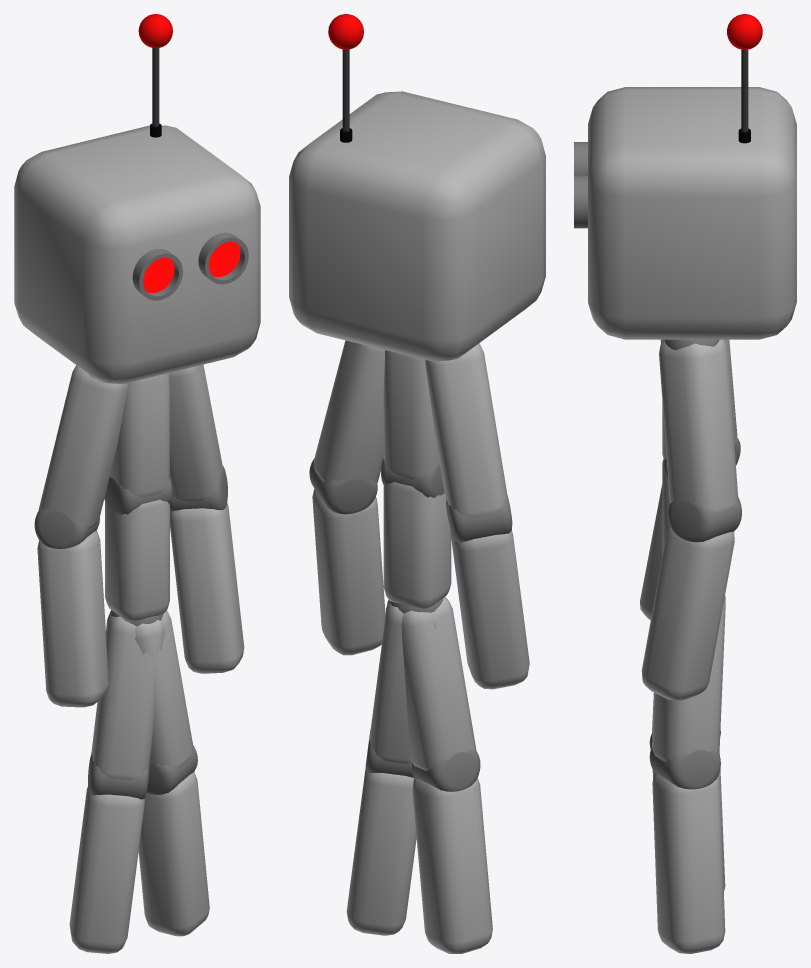
The model's file is StickBot.fbx.
3 renders of one model, left to right at view 1: azimuth 30°, elevation 25°; view 2: azimuth 150°, elevation 25°; view 3: azimuth 270°, elevation 25°, orthographic. The views are drawn at different scales.
Parts seen in each view (by area): view 1: Cube.010, Cube.006, Cube.008, Cube.004, Cube.003, Cube.007, Cube.005, Cube, Cube.009, Cube.001, Cube.002, Cylinder.005 (+6 smaller); view 2: Cube.010, Cube.004, Cube.007, Cube.008, Cube.006, Cube.003, Cube.005, Cube.009, Cube, Cube.001, Cube.002, Cylinder.004 (+5 smaller); view 3: Cube.010, Cube.003, Cube.009, Cube.008, Cube.002, Cylinder.004, Cylinder.001, Sphere.005, Cube.006, Cylinder.005, Cube.
Boxes of the visible parts, x1,y1,x2,y2 form: Cube.010: (14, 125, 260, 383); Cube.006: (37, 530, 108, 707); Cube.008: (170, 503, 244, 673); Cube.004: (69, 787, 144, 953); Cube.003: (138, 772, 209, 936); Cube.007: (38, 365, 127, 529); Cube.005: (91, 611, 164, 779); Cube: (105, 499, 169, 621); Cube.009: (169, 364, 223, 502); Cube.001: (109, 373, 169, 497); Cube.002: (106, 610, 193, 768); Cylinder.005: (132, 232, 248, 300); Cube.010: (289, 91, 545, 361); Cube.004: (412, 778, 492, 953); Cube.007: (425, 343, 507, 517); Cube.008: (312, 489, 385, 655); Cube.006: (450, 530, 529, 689); Cube.003: (346, 766, 416, 935); Cube.005: (385, 597, 476, 770); Cube.009: (314, 340, 384, 482); Cube: (383, 482, 451, 609); Cube.001: (383, 350, 439, 479); Cube.002: (369, 599, 437, 763); Cylinder.004: (309, 459, 377, 514); Cube.010: (588, 87, 796, 339); Cube.003: (652, 773, 725, 953); Cube.009: (659, 339, 738, 513); Cube.008: (641, 524, 734, 700); Cube.002: (652, 599, 725, 761); Cylinder.004: (668, 497, 741, 542); Cylinder.001: (649, 746, 720, 789); Sphere.005: (727, 14, 762, 143); Cube.006: (640, 484, 662, 620); Cylinder.005: (574, 142, 587, 228); Cube: (662, 459, 669, 555).
Bounding box in the file's own units: 112 × 106 × 492.
